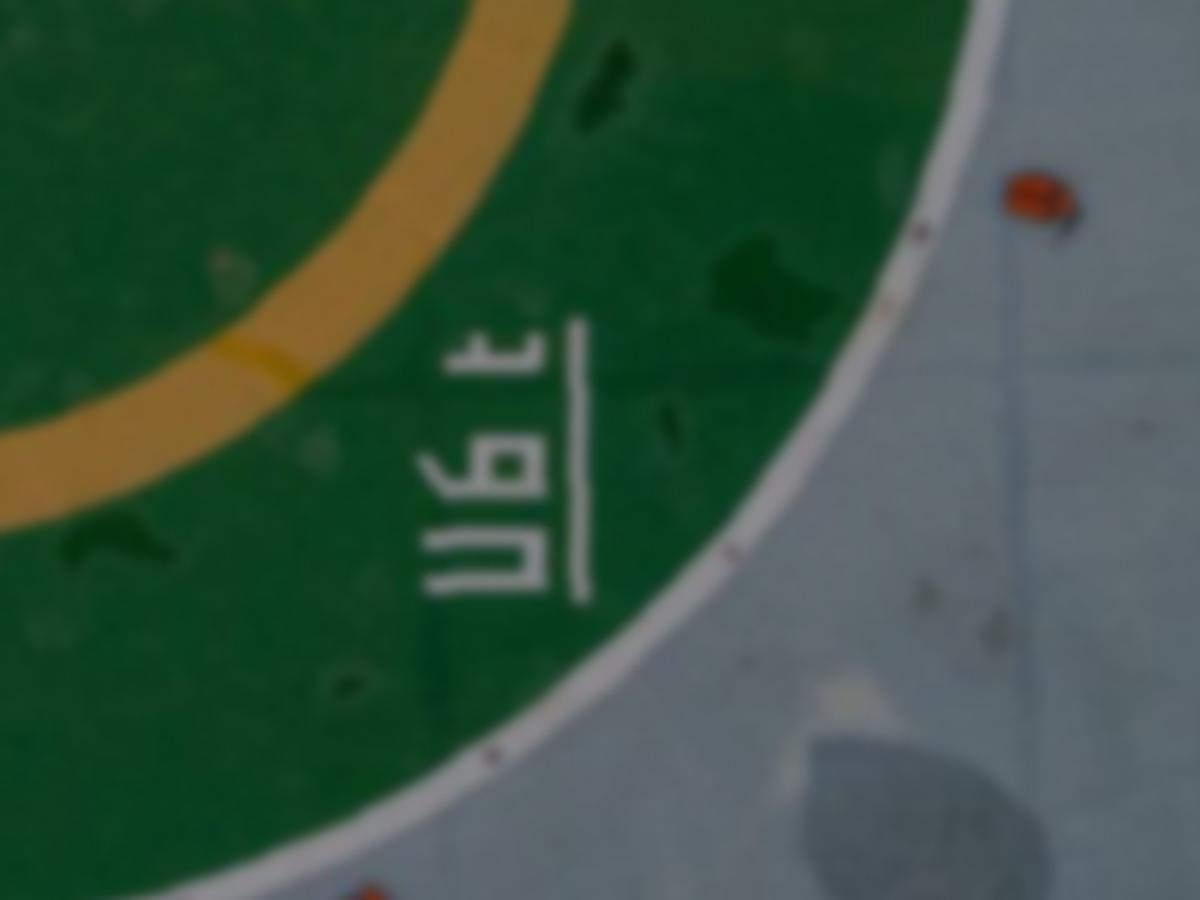Apron: (1, 1, 591, 545)
